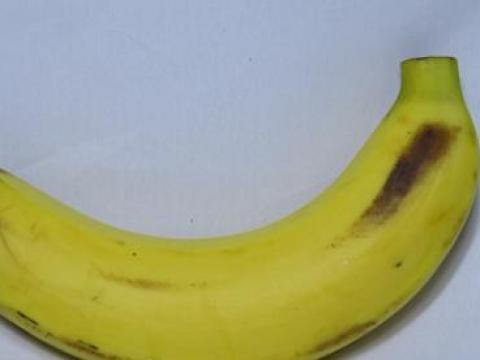freshripe: (0, 48, 479, 359)
